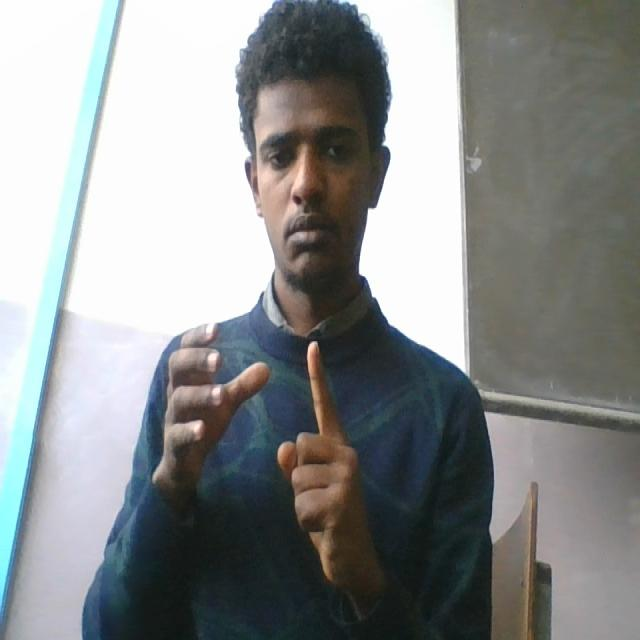melqeq: (158, 316, 378, 602)
